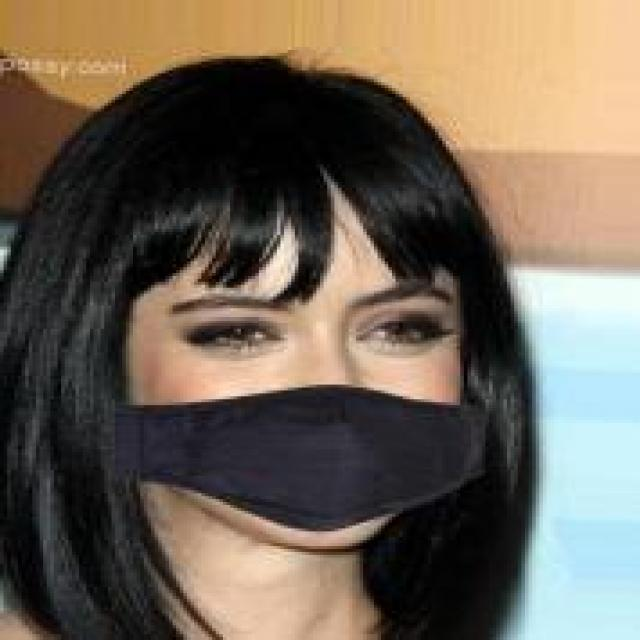mask: (40, 47, 558, 555)
